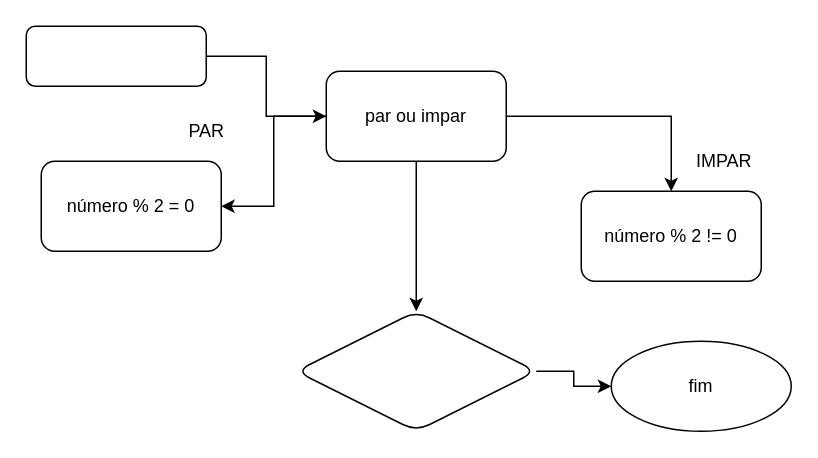
The diagram is 818 pixels wide and 458 high, and some of its shapes have lost their labels. Each missing label, with the box of its shape:
exiba par ou impar: (295, 310, 536, 431)
INICIO: (25, 25, 206, 86)
